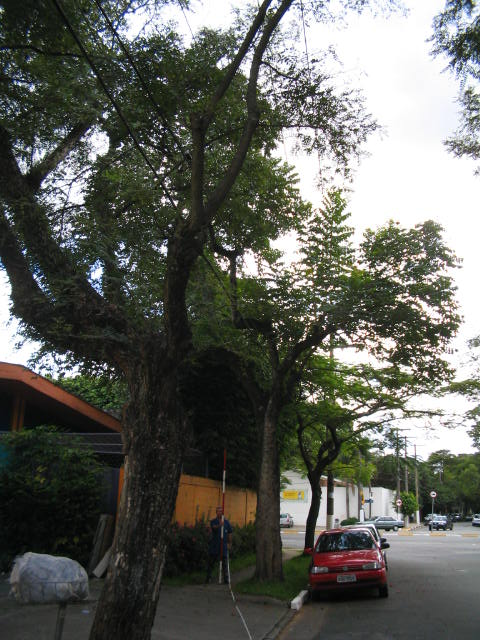crown: (167, 156, 460, 428)
stem: (74, 369, 195, 638), (245, 432, 291, 582)
stick: (211, 445, 232, 583)
tree: (163, 156, 463, 582)
